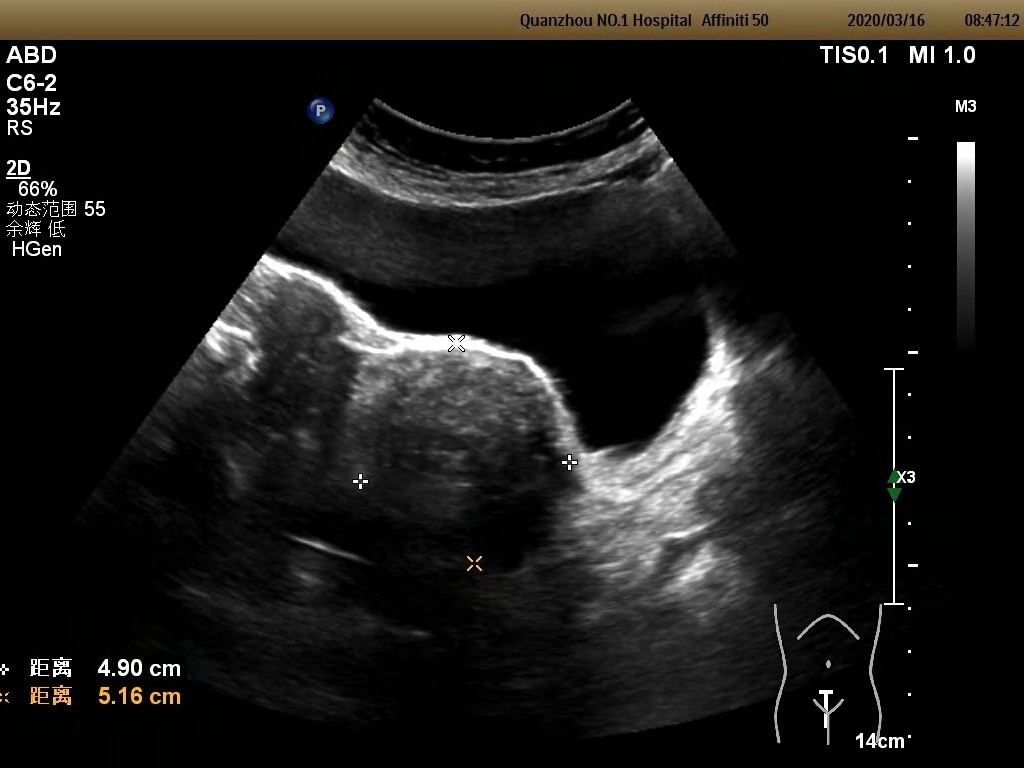肌瘤: (364, 343, 568, 560)
